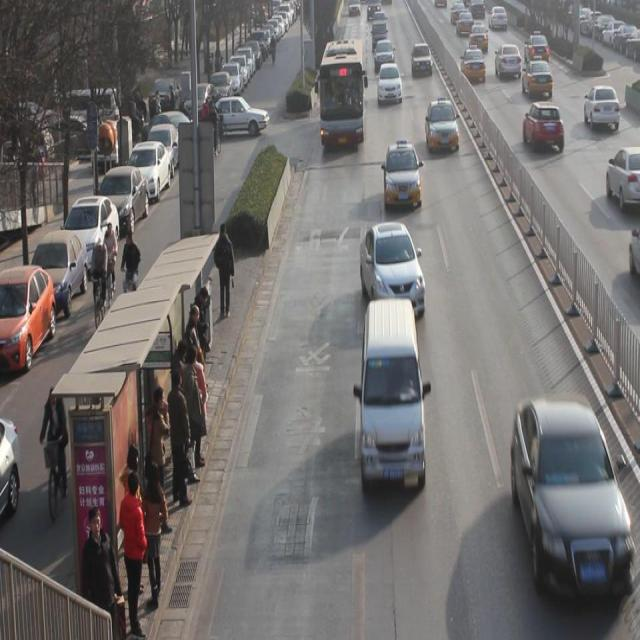car: (511, 395, 632, 597), (360, 223, 426, 315), (384, 142, 421, 209), (606, 145, 640, 212), (523, 100, 564, 154), (426, 96, 459, 154), (584, 86, 620, 132), (523, 57, 553, 98), (378, 63, 402, 104), (494, 44, 521, 79), (461, 45, 486, 82), (524, 30, 550, 65), (412, 44, 433, 76), (374, 40, 394, 70), (470, 23, 488, 52)
truck: (361, 300, 426, 488), (372, 21, 387, 51)
van: (318, 39, 363, 144)
